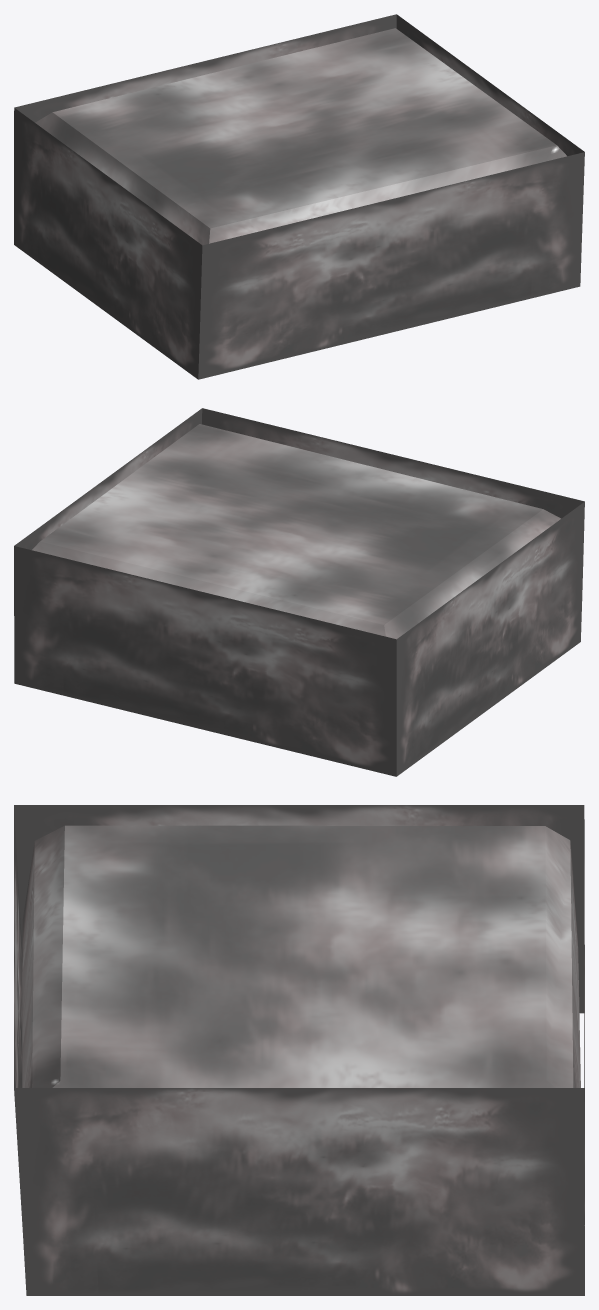
File: bbhq_skybox.fbx
The picture shows the model from 3 angles, top to bottom: view 1: azimuth 30°, elevation 25°; view 2: azimuth 150°, elevation 25°; view 3: azimuth 270°, elevation 25°; orthographic projection. The views are drawn at different scales.
Parts seen in each view (by area): view 1: LB_SkySides, LB_SkyTop; view 2: LB_SkySides, LB_SkyTop; view 3: LB_SkyTop, LB_SkySides.
Part boxes in pixels (<box>): LB_SkySides: <box>14,14,584,379</box>; LB_SkyTop: <box>35,28,566,245</box>; LB_SkySides: <box>14,408,584,776</box>; LB_SkyTop: <box>32,424,560,639</box>; LB_SkyTop: <box>22,825,580,1087</box>; LB_SkySides: <box>14,805,584,1295</box>.
Size of the model in its own units: 952 by 327 by 812.
Materials: 2 (2 with a texture image).
